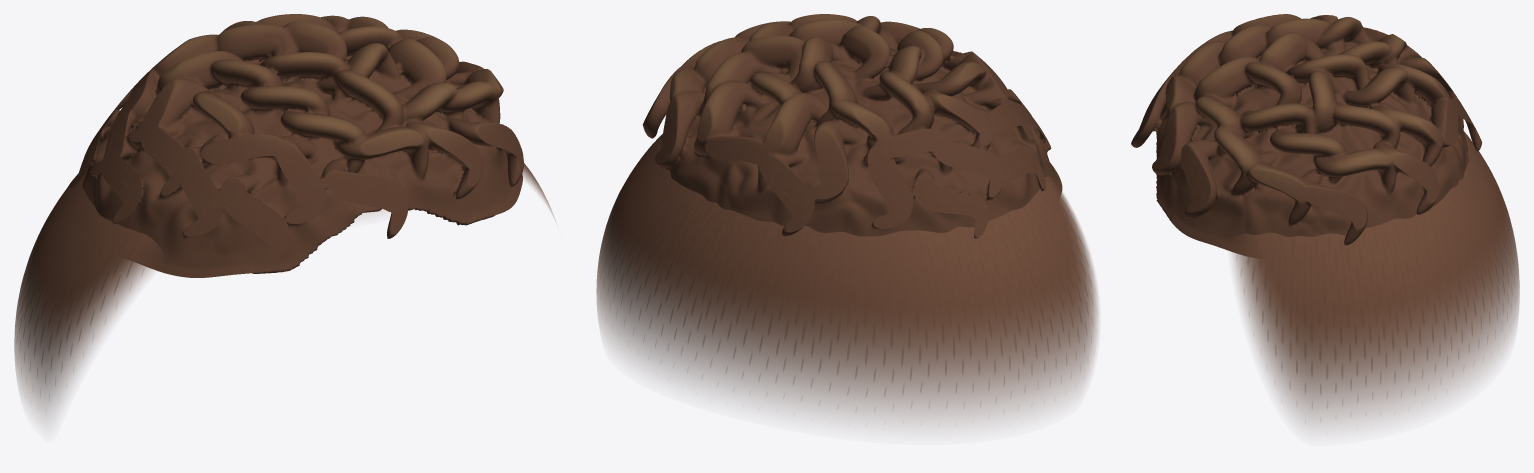
The model's file is Masculine-curly-top-beanie258-hair-ombre.glb.
3 renders of one model, left to right at view 1: azimuth 30°, elevation 25°; view 2: azimuth 150°, elevation 25°; view 3: azimuth 270°, elevation 25°, orthographic. The views are drawn at different scales.
Parts seen in each view (by area): view 1: 226 hair / Hair252 / sculpted curl groups, 226 hair / Hair258 / smooth side fade, 226 hair / Hair258 / directional fade marks; view 2: 226 hair / Hair258 / smooth side fade, 226 hair / Hair252 / sculpted curl groups, 226 hair / Hair258 / directional fade marks; view 3: 226 hair / Hair252 / sculpted curl groups, 226 hair / Hair258 / smooth side fade, 226 hair / Hair258 / directional fade marks.
Boxes of the visible parts, x1=… form: 226 hair / Hair252 / sculpted curl groups: x1=67, y1=14, x2=523, y2=277; 226 hair / Hair258 / smooth side fade: x1=14, y1=163, x2=555, y2=419; 226 hair / Hair258 / directional fade marks: x1=15, y1=180, x2=159, y2=385; 226 hair / Hair258 / smooth side fade: x1=596, y1=134, x2=1098, y2=424; 226 hair / Hair252 / sculpted curl groups: x1=642, y1=14, x2=1062, y2=238; 226 hair / Hair258 / directional fade marks: x1=608, y1=135, x2=1092, y2=395; 226 hair / Hair252 / sculpted curl groups: x1=1131, y1=14, x2=1482, y2=256; 226 hair / Hair258 / smooth side fade: x1=1230, y1=131, x2=1519, y2=426; 226 hair / Hair258 / directional fade marks: x1=1235, y1=138, x2=1514, y2=407.
Size of the model in its own units: 0.9705 by 0.665 by 0.7425.
